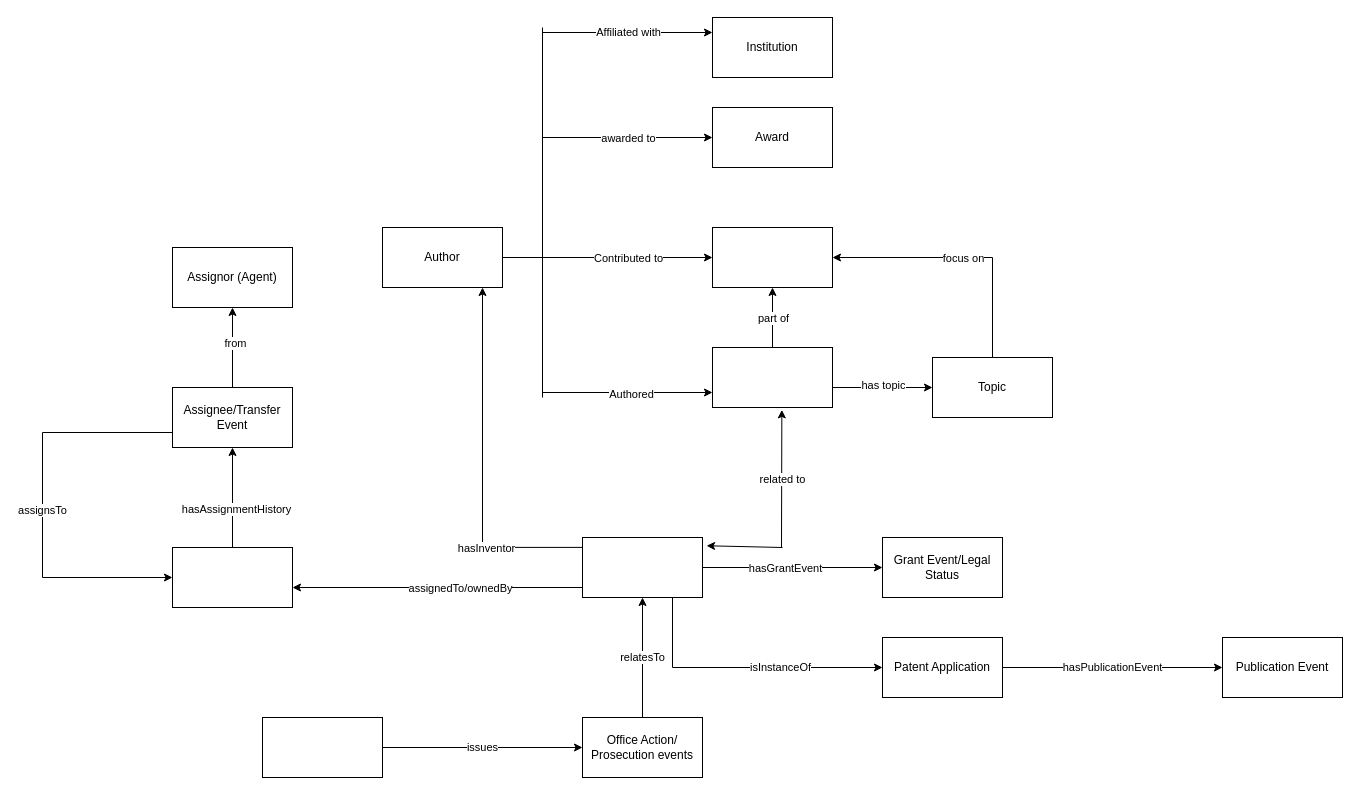
This 1360x795 diagram has some shape labels left out. Here are the shapes that lost their labels. From the top down, the centre of each, then its label:
At (x=772, y=257): "Trajectory".
At (x=772, y=377): "Paper / Publication".
At (x=232, y=577): "Assignee/Organisation".
At (x=642, y=567): "Patent (Grant/Application)".
At (x=322, y=747): "Examiner".
